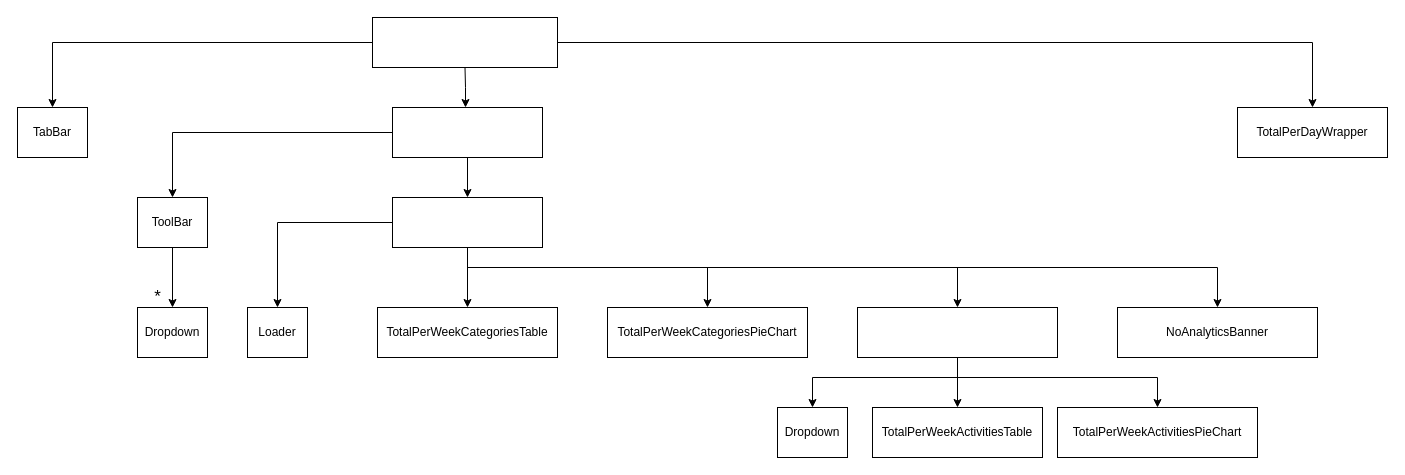
Image size: 1405x475. Some labels were removed from this diagram. Each missing label, with the centre of its shape:
"AnalyticsDashboardWrapper" belongs at pixel 465 42.
"TotalPerWeekActivitiesWrapper" belongs at pixel 957 332.
"TotalPerWeekDashboard" belongs at pixel 467 222.
"TotalPerWeekWrapper" belongs at pixel 467 132.
